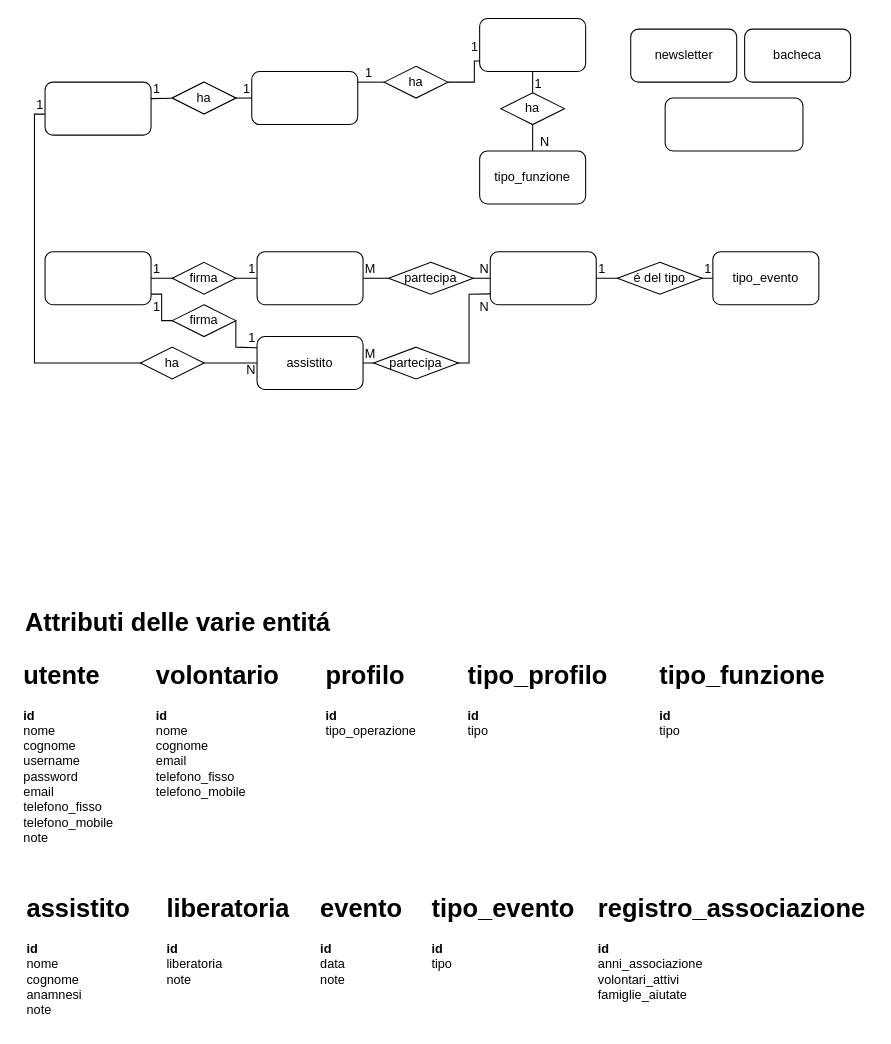
This 891x1044 diagram has some shape labels left out. The box of each missing label's shape, as (x1, y1, x2, y2) in pixels:
evento: (489, 251, 596, 305)
liberatoria: (44, 251, 151, 305)
profilo: (479, 17, 586, 72)
registro_associazione: (664, 97, 803, 151)
tipo_profilo: (251, 70, 358, 125)
utente: (44, 81, 151, 135)
volontario: (256, 251, 363, 305)
